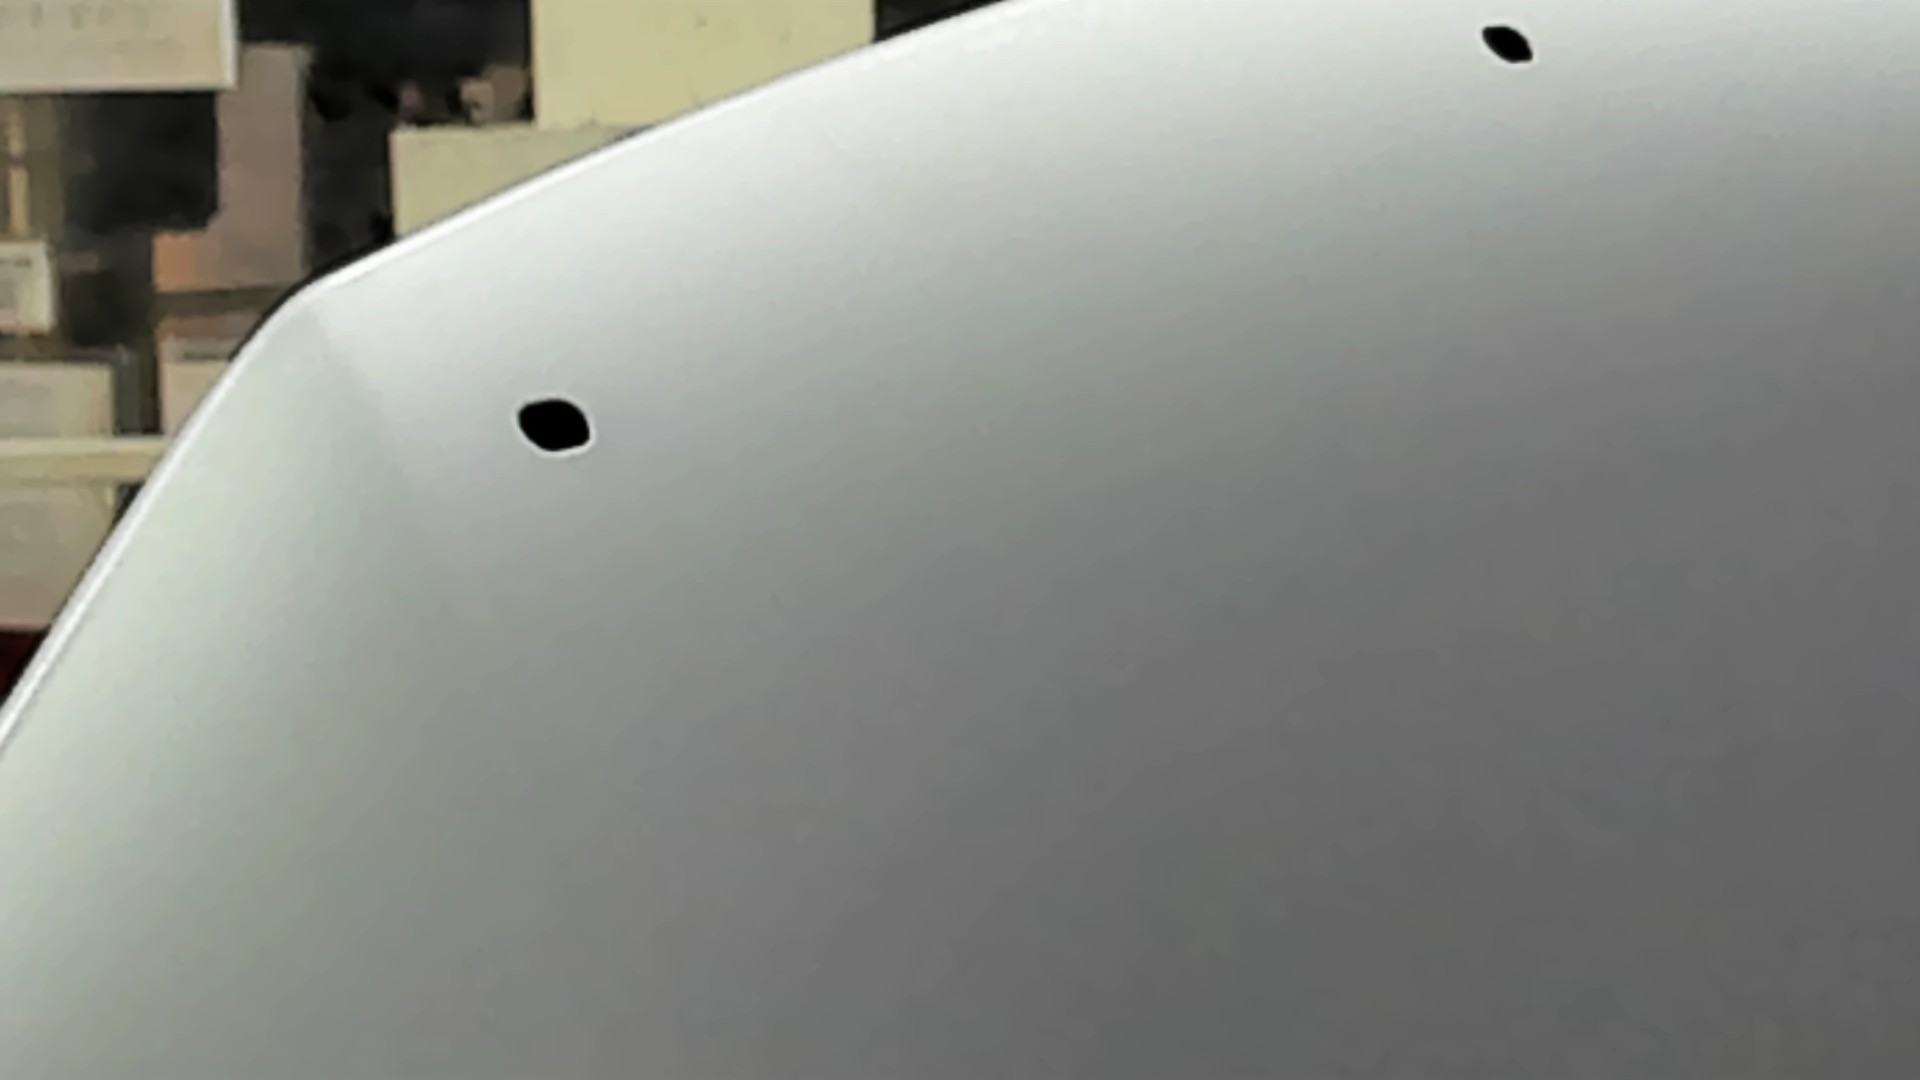amorfo: (510, 392, 600, 458), (1477, 20, 1542, 73)
